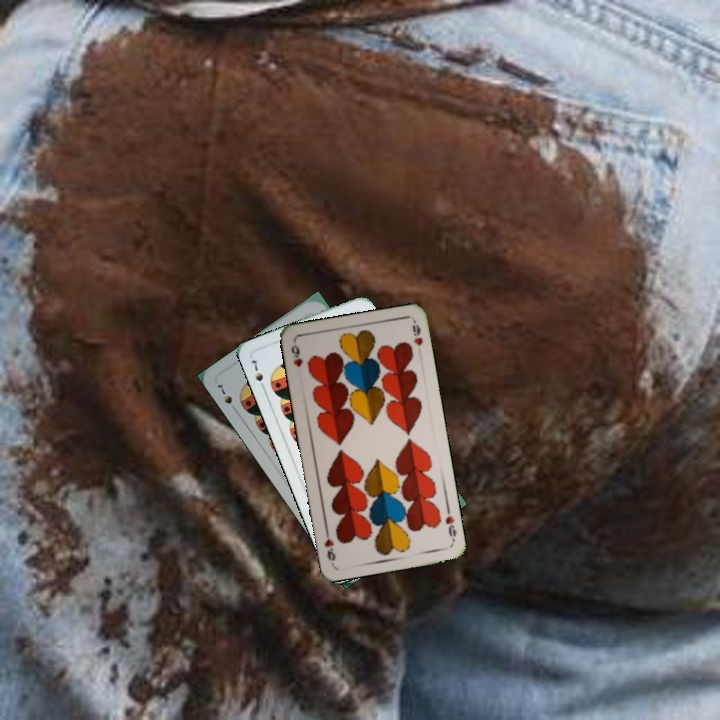H9: (441, 504, 459, 544), (287, 341, 305, 370)
S7: (213, 380, 240, 415), (248, 355, 268, 394)
